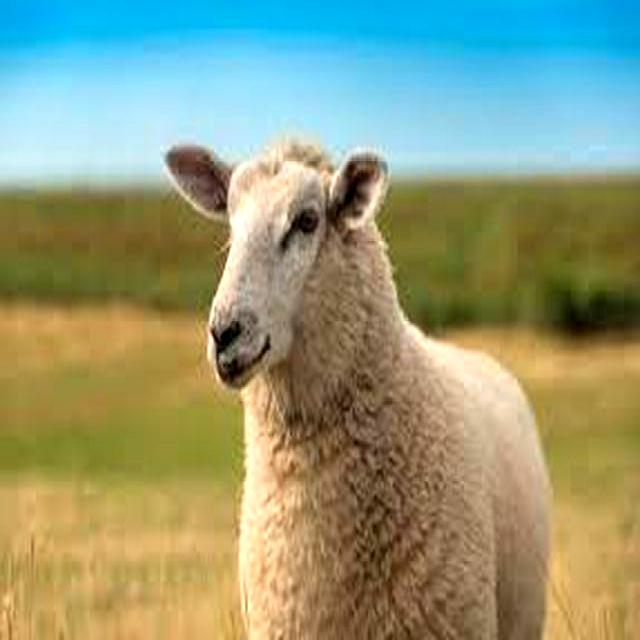sheep: (162, 130, 556, 639)
